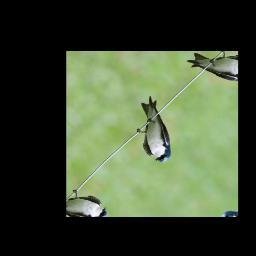Swallow: (118, 94, 194, 167)
